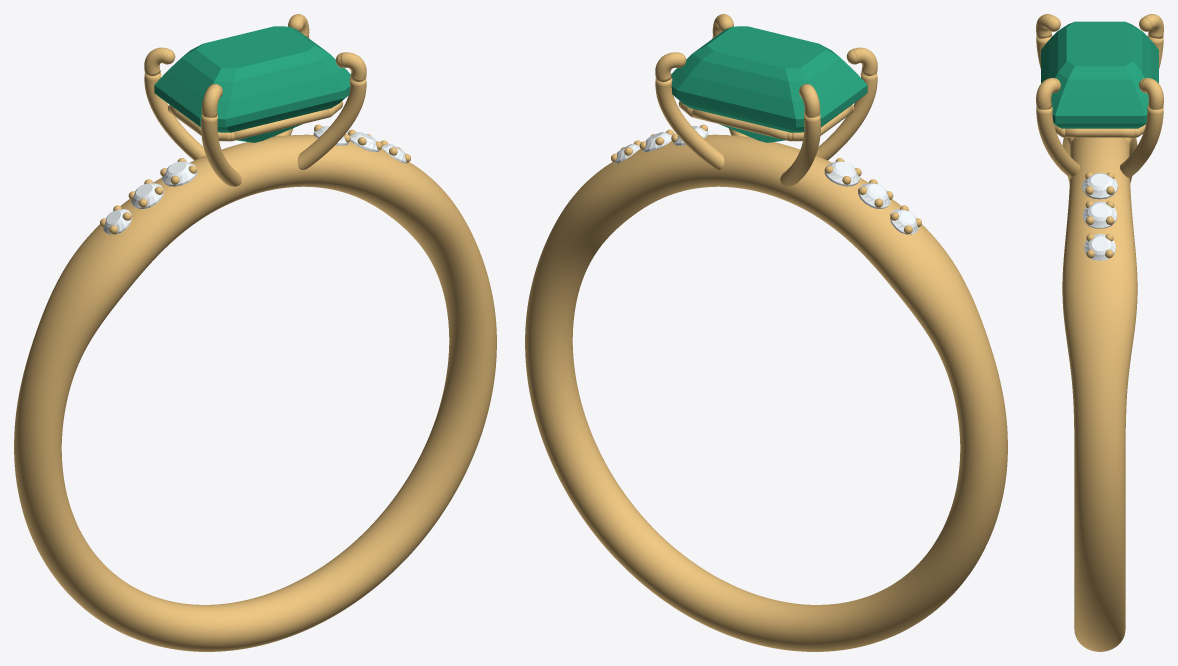
The model's file is sample-ring.glb.
The picture shows the model from 3 angles, left to right: view 1: azimuth 30°, elevation 25°; view 2: azimuth 150°, elevation 25°; view 3: azimuth 270°, elevation 25°; orthographic projection. The views are drawn at different scales.
Visible parts, largest first — view 1: Comfort fit gold shank, Faceted octagonal emerald, Gallery prong 4, Gallery prong 1, Gallery prong 2, Open gallery rail 5; view 2: Comfort fit gold shank, Faceted octagonal emerald, Gallery prong 3, Gallery prong 2, Gallery prong 1, Open gallery rail 1; view 3: Comfort fit gold shank, Faceted octagonal emerald, Gallery prong 3, Gallery prong 4, Open gallery rail 3, Shoulder diamond 1 2, Shoulder diamond 1 1, Shoulder diamond 1 0, Curved claw 4, Curved claw 3, Curved claw 1, Curved claw 2 (+2 smaller).
Part boxes in pixels (<box>): Comfort fit gold shank: <box>14,134,496,651</box>; Faceted octagonal emerald: <box>154,26,350,142</box>; Gallery prong 4: <box>297,77,366,169</box>; Gallery prong 1: <box>144,72,205,160</box>; Gallery prong 2: <box>201,113,241,186</box>; Open gallery rail 5: <box>233,109,330,140</box>; Comfort fit gold shank: <box>525,134,1007,651</box>; Faceted octagonal emerald: <box>671,26,867,142</box>; Gallery prong 3: <box>655,77,724,169</box>; Gallery prong 2: <box>816,72,877,160</box>; Gallery prong 1: <box>780,113,820,186</box>; Open gallery rail 1: <box>691,109,788,140</box>; Comfort fit gold shank: <box>1062,137,1137,651</box>; Faceted octagonal emerald: <box>1041,21,1158,128</box>; Gallery prong 3: <box>1120,106,1163,178</box>; Gallery prong 4: <box>1036,106,1079,178</box>; Open gallery rail 3: <box>1065,128,1134,137</box>; Shoulder diamond 1 2: <box>1082,173,1117,199</box>; Shoulder diamond 1 1: <box>1082,201,1117,228</box>; Shoulder diamond 1 0: <box>1084,233,1115,260</box>; Curved claw 4: <box>1036,78,1058,109</box>; Curved claw 3: <box>1141,78,1163,109</box>; Curved claw 1: <box>1143,14,1163,38</box>; Curved claw 2: <box>1036,14,1056,38</box>.
Bounding box in the file's own units: 2.18 × 2.62 × 0.5207.
